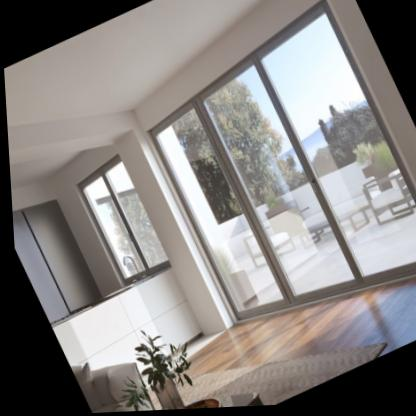Window: (147, 0, 416, 319), (77, 155, 168, 285)
Wooden floor: (182, 284, 416, 381)
